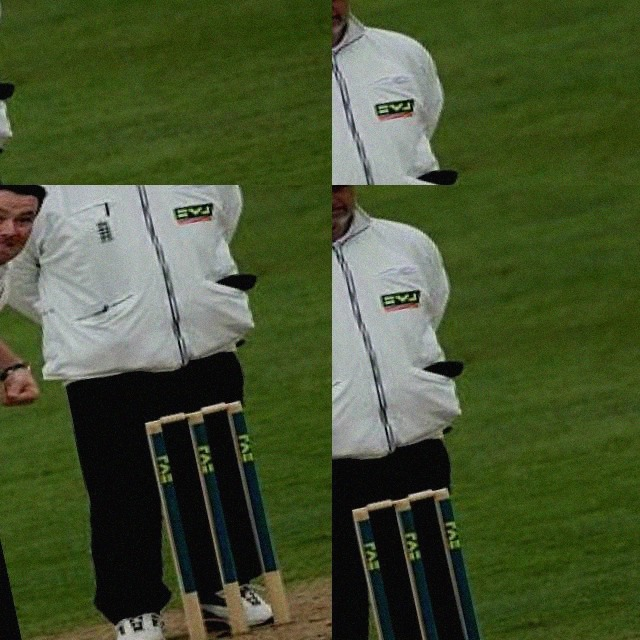No_Action: (332, 185, 557, 640), (332, 72, 484, 185)
Out: (0, 0, 332, 185)
Six: (0, 185, 317, 640)
